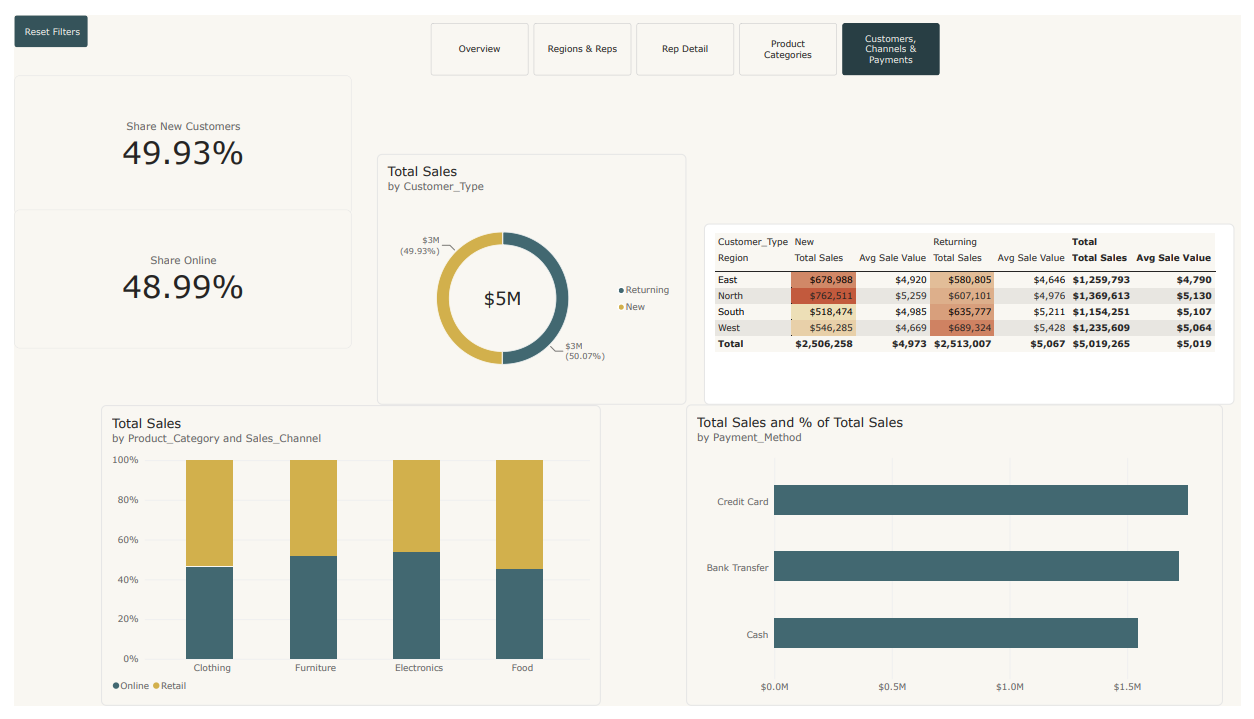

What the dashboard file says about the page in this screenshot:
{"tool":"powerbi","page":{"name":"Customers, Channels & Payments","canvas":[1920,1080],"ordinal":4},"visuals":[{"type":"cardVisual","fields":{"Data":["Sales.Share New Customers"]},"box":[0,94.2,527.9,217.4],"z":0},{"type":"cardVisual","fields":{"Data":["Sales.Share Online"]},"box":[0,303.9,527.9,217.4],"z":1000},{"type":"donutChart","fields":{"Category":["Sales.Customer_Type"],"Y":["Sales.Total Sales"]},"box":[568,217.4,483.9,392],"z":2000},{"type":"hundredPercentStackedColumnChart","fields":{"Category":["Sales.Product_Category"],"Series":["Sales.Sales_Channel"],"Y":["Sales.Total Sales"]},"box":[136.5,609.5,781.5,470.9],"z":3000},{"type":"pivotTable","fields":{"Columns":["Sales.Customer_Type"],"Rows":["Sales.Region"],"Values":["Sales.Total Sales","Sales.Avg Sale Value"]},"box":[1080.3,326,829.3,283.3],"z":4000},{"type":"clusteredBarChart","fields":{"Category":["Sales.Payment_Method"],"Y":["Sales.Total Sales"]},"box":[1051.9,609.4,839.7,470.9],"z":5000},{"type":"pageNavigator","box":[652.1,11.6,799.6,82.8],"z":5001},{"type":"actionButton","box":[0,0,115.3,50.4],"z":5003}]}

Visuals, with their boxes in screenshot pixels (x1, y1, x2, y2), scaled from the page's 1920x1080 canvas onto the 1254x719 screenshot:
cardVisual - Sales.Share New Customers: (x1=0, y1=63, x2=345, y2=207)
cardVisual - Sales.Share Online: (x1=0, y1=202, x2=345, y2=347)
donutChart - Sales.Customer_Type x Sales.Total Sales: (x1=371, y1=145, x2=687, y2=406)
hundredPercentStackedColumnChart - Sales.Product_Category x Sales.Sales_Channel: (x1=89, y1=406, x2=600, y2=718)
pivotTable - Sales.Customer_Type x Sales.Region: (x1=706, y1=217, x2=1247, y2=406)
clusteredBarChart - Sales.Payment_Method x Sales.Total Sales: (x1=687, y1=406, x2=1235, y2=718)
pageNavigator: (x1=426, y1=8, x2=948, y2=63)
actionButton: (x1=0, y1=0, x2=75, y2=34)
